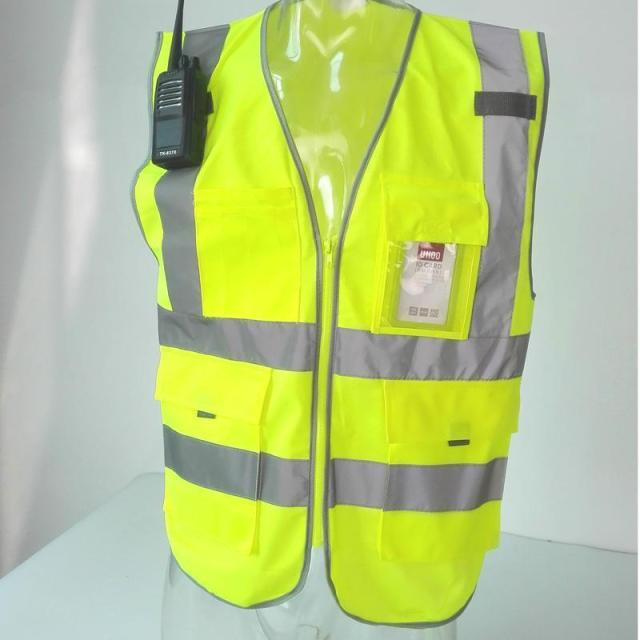Vest: (130, 0, 552, 627)
